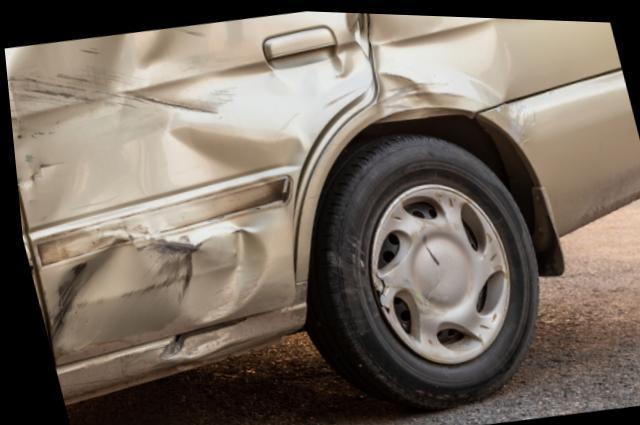dent: (5, 9, 365, 353), (363, 11, 517, 106), (157, 316, 231, 358)
